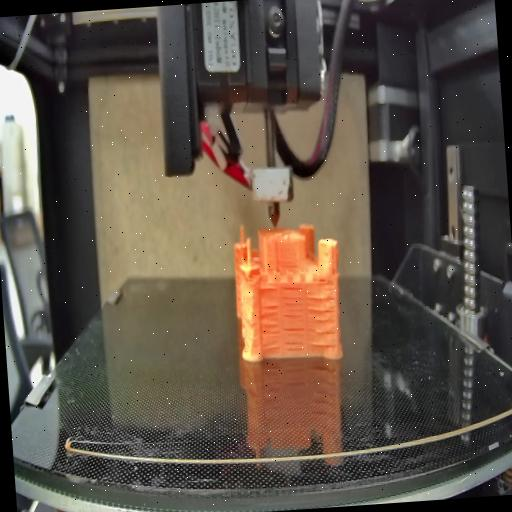cracks: (308, 294, 336, 349), (260, 302, 284, 353), (281, 282, 303, 319), (284, 326, 308, 354), (258, 282, 280, 294), (279, 257, 299, 270), (316, 276, 330, 284)
